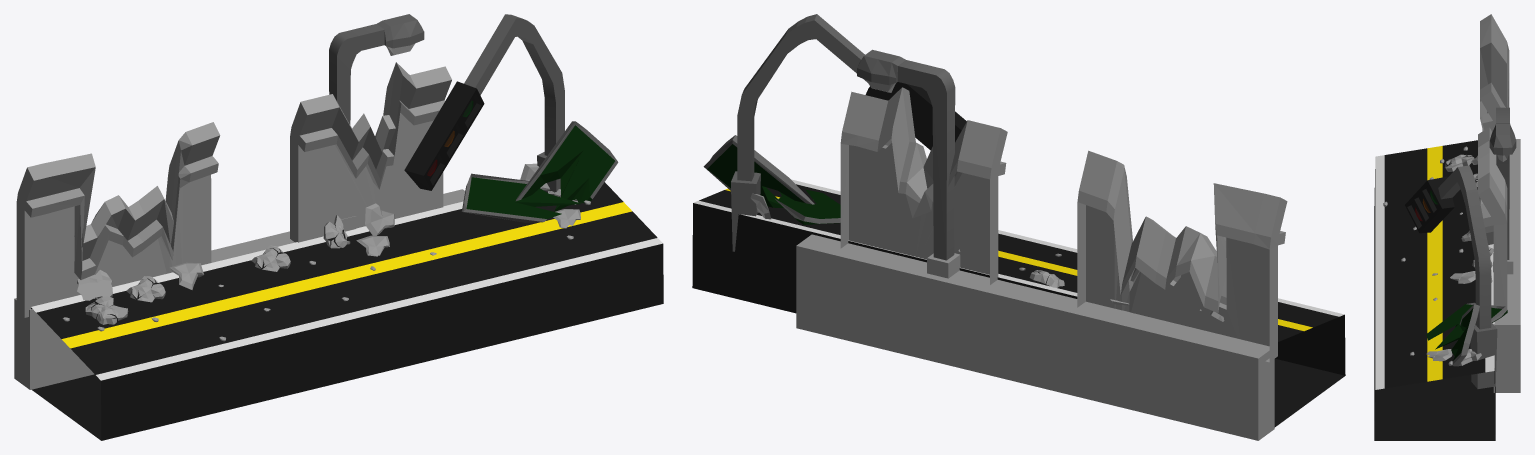
Rendered from npchome@road.FBX.
3 views of the same model, side by side, from view 1: azimuth 30°, elevation 25°; view 2: azimuth 150°, elevation 25°; view 3: azimuth 270°, elevation 25° (orthographic). The views are drawn at different scales.
Visible parts, largest first — view 1: Box002; view 2: Box002; view 3: Box002.
Boxes of the visible parts, bbox=[...] form: Box002: bbox=[14, 14, 663, 440]; Box002: bbox=[692, 14, 1345, 440]; Box002: bbox=[1374, 14, 1520, 440].
Bounding box in the file's own units: 158 × 72.04 × 40.88.
